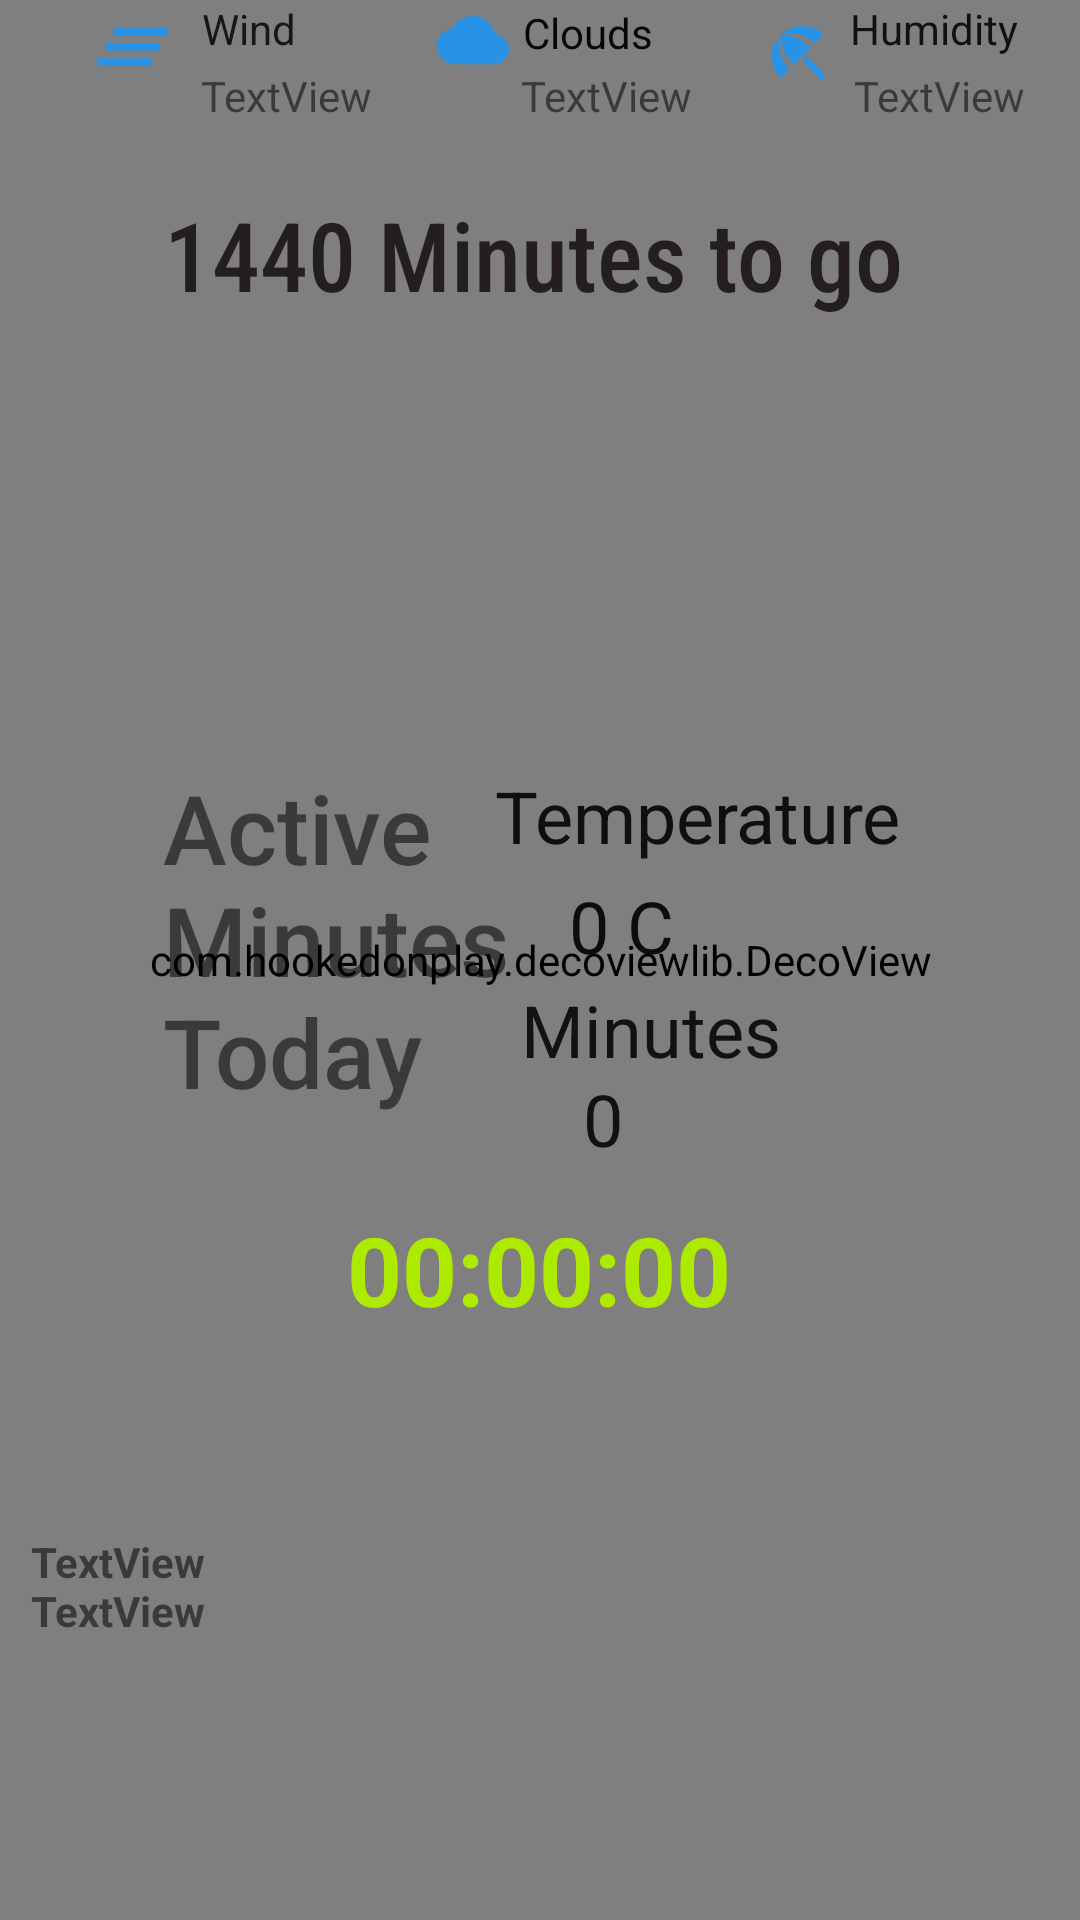

Screen size 1080×1920. Icon name, then its box in pixels as {"x1": x1, "y1": y1, "x2": x2, "y2": y2}:
rain umbrella: {"x1": 772, "y1": 26, "x2": 826, "y2": 80}
